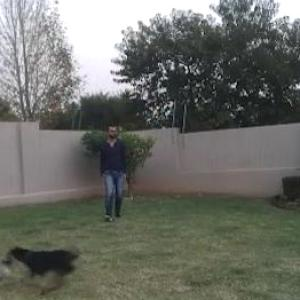follow: (99, 119, 130, 226)
